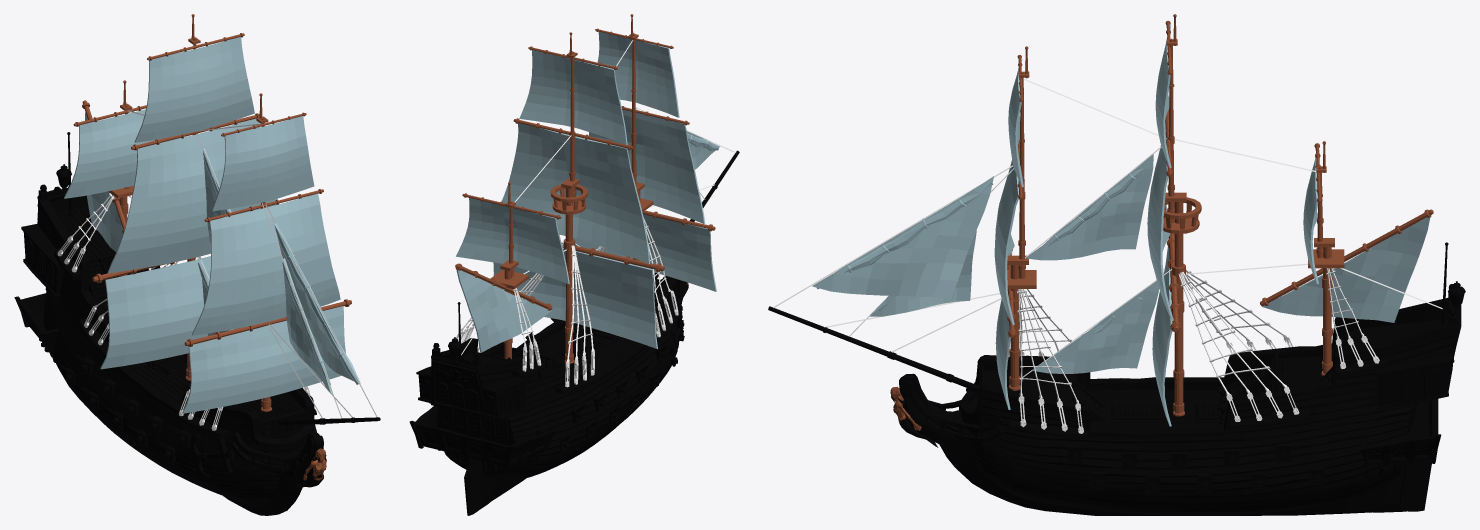
The model's file is SM_Veh_Boat_Warship_01_Hull.fbx.
3 renders of one model, left to right at view 1: azimuth 30°, elevation 25°; view 2: azimuth 150°, elevation 25°; view 3: azimuth 270°, elevation 25°, orthographic. The views are drawn at different scales.
Visible parts, largest first — view 1: SM_Veh_Boat_Warship_01_Hull, SM_Veh_Boat_Warship_01_Sails_02, SM_Veh_Boat_Warship_01_Sails_01, SM_Veh_Boat_Warship_01_Sails_03, SM_Veh_Boat_Warship_01_Sails_05, SM_Veh_Boat_Warship_01_Rigging, SM_Veh_Boat_Warship_01_Mast_SailUp_05, SM_Veh_Boat_Warship_01_Mast_01, SM_Veh_Boat_Warship_01_Mast_02, SM_Veh_Boat_Warship_01_Mast_03, SM_Veh_Boat_Warship_01_Sails_04; view 2: SM_Veh_Boat_Warship_01_Hull, SM_Veh_Boat_Warship_01_Sails_02, SM_Veh_Boat_Warship_01_Sails_01, SM_Veh_Boat_Warship_01_Sails_03, SM_Veh_Boat_Warship_01_Mast_02, SM_Veh_Boat_Warship_01_Rigging, SM_Veh_Boat_Warship_01_Mast_03, SM_Veh_Boat_Warship_01_Mast_01, SM_Veh_Boat_Warship_01_Sails_05; view 3: SM_Veh_Boat_Warship_01_Hull, SM_Veh_Boat_Warship_01_Sails_05, SM_Veh_Boat_Warship_01_Sails_04, SM_Veh_Boat_Warship_01_Rigging, SM_Veh_Boat_Warship_01_Sails_03, SM_Veh_Boat_Warship_01_Sails_02, SM_Veh_Boat_Warship_01_Mast_02, SM_Veh_Boat_Warship_01_Sails_01, SM_Veh_Boat_Warship_01_Mast_03, SM_Veh_Boat_Warship_01_Mast_01, SM_Veh_Boat_Warship_01_Mast_SailUp_05.
Boxes of the visible parts, x1=… form: SM_Veh_Boat_Warship_01_Hull: x1=14, y1=132, x2=380, y2=515; SM_Veh_Boat_Warship_01_Sails_02: x1=100, y1=37, x2=277, y2=369; SM_Veh_Boat_Warship_01_Sails_01: x1=182, y1=116, x2=345, y2=413; SM_Veh_Boat_Warship_01_Sails_03: x1=64, y1=109, x2=180, y2=252; SM_Veh_Boat_Warship_01_Sails_05: x1=274, y1=223, x2=360, y2=393; SM_Veh_Boat_Warship_01_Rigging: x1=57, y1=110, x2=377, y2=430; SM_Veh_Boat_Warship_01_Mast_SailUp_05: x1=198, y1=153, x2=358, y2=384; SM_Veh_Boat_Warship_01_Mast_01: x1=184, y1=93, x2=351, y2=411; SM_Veh_Boat_Warship_01_Mast_02: x1=92, y1=14, x2=259, y2=380; SM_Veh_Boat_Warship_01_Mast_03: x1=73, y1=80, x2=146, y2=276; SM_Veh_Boat_Warship_01_Sails_04: x1=200, y1=148, x2=233, y2=335; SM_Veh_Boat_Warship_01_Hull: x1=409, y1=150, x2=739, y2=515; SM_Veh_Boat_Warship_01_Sails_02: x1=493, y1=50, x2=657, y2=348; SM_Veh_Boat_Warship_01_Sails_01: x1=573, y1=31, x2=716, y2=291; SM_Veh_Boat_Warship_01_Sails_03: x1=456, y1=198, x2=569, y2=352; SM_Veh_Boat_Warship_01_Mast_02: x1=513, y1=32, x2=664, y2=363; SM_Veh_Boat_Warship_01_Rigging: x1=456, y1=40, x2=735, y2=387; SM_Veh_Boat_Warship_01_Mast_03: x1=455, y1=182, x2=561, y2=359; SM_Veh_Boat_Warship_01_Mast_01: x1=595, y1=14, x2=715, y2=266; SM_Veh_Boat_Warship_01_Sails_05: x1=687, y1=131, x2=719, y2=169; SM_Veh_Boat_Warship_01_Hull: x1=768, y1=242, x2=1465, y2=515; SM_Veh_Boat_Warship_01_Sails_05: x1=812, y1=176, x2=993, y2=316; SM_Veh_Boat_Warship_01_Sails_04: x1=1026, y1=154, x2=1159, y2=373; SM_Veh_Boat_Warship_01_Rigging: x1=773, y1=78, x2=1442, y2=433; SM_Veh_Boat_Warship_01_Sails_03: x1=1261, y1=157, x2=1430, y2=322; SM_Veh_Boat_Warship_01_Sails_02: x1=1147, y1=24, x2=1173, y2=426; SM_Veh_Boat_Warship_01_Mast_02: x1=1163, y1=14, x2=1201, y2=416; SM_Veh_Boat_Warship_01_Sails_01: x1=994, y1=59, x2=1023, y2=409; SM_Veh_Boat_Warship_01_Mast_03: x1=1260, y1=141, x2=1433, y2=376; SM_Veh_Boat_Warship_01_Mast_01: x1=1007, y1=46, x2=1036, y2=390; SM_Veh_Boat_Warship_01_Mast_SailUp_05: x1=817, y1=157, x2=1149, y2=356.
Bounding box in the file's own units: 14.59 × 31.5 × 39.75.
